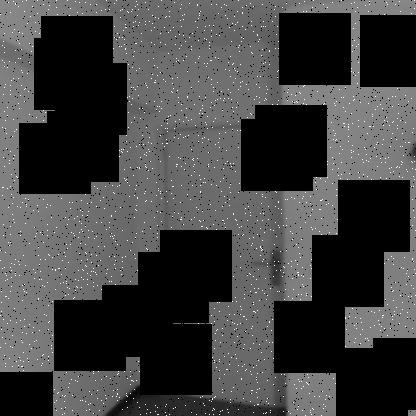Porte: (152, 118, 307, 415)
